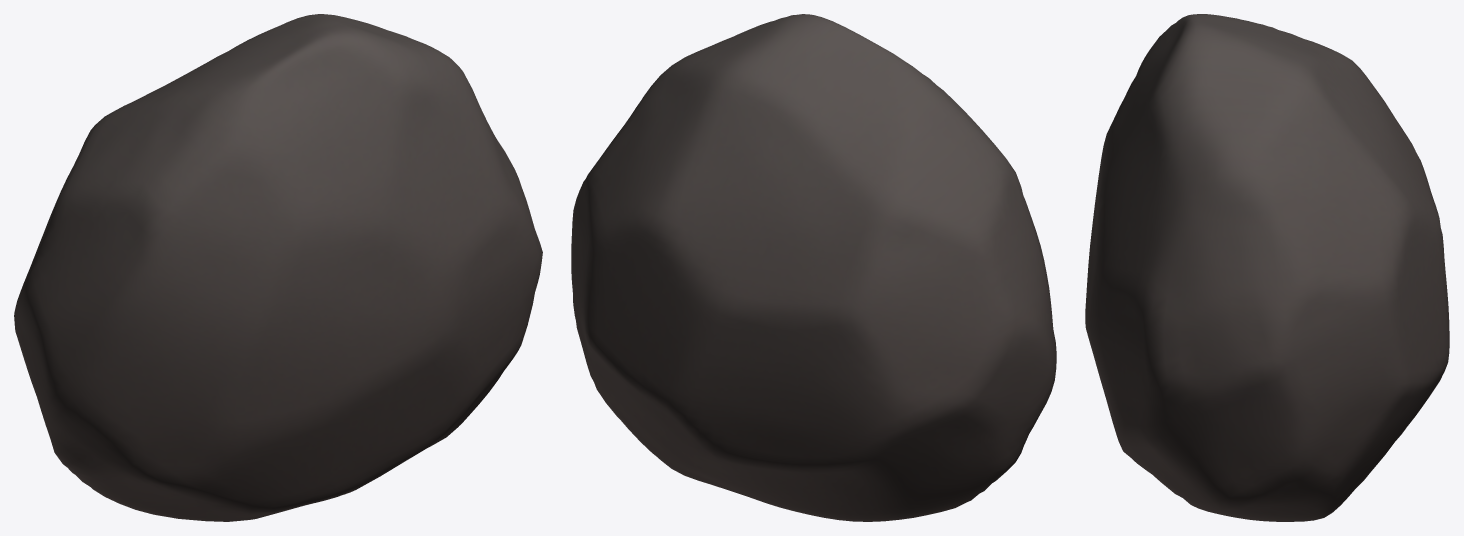
Rendered from Rock10_Textured.fbx.
The picture shows the model from 3 angles, left to right: view 1: azimuth 30°, elevation 25°; view 2: azimuth 150°, elevation 25°; view 3: azimuth 270°, elevation 25°; orthographic projection. The views are drawn at different scales.
Visible parts, largest first — view 1: GameJam_Rock2_ModelZbrush:Group52278; view 2: GameJam_Rock2_ModelZbrush:Group52278; view 3: GameJam_Rock2_ModelZbrush:Group52278.
Part boxes in pixels (x1,y1,x2,y2): GameJam_Rock2_ModelZbrush:Group52278: (14,14,542,521); GameJam_Rock2_ModelZbrush:Group52278: (571,14,1056,521); GameJam_Rock2_ModelZbrush:Group52278: (1085,14,1449,521).
Size of the model in its own units: 1.63 by 1.51 by 1.07.
Materials: 1 (1 with a texture image).
